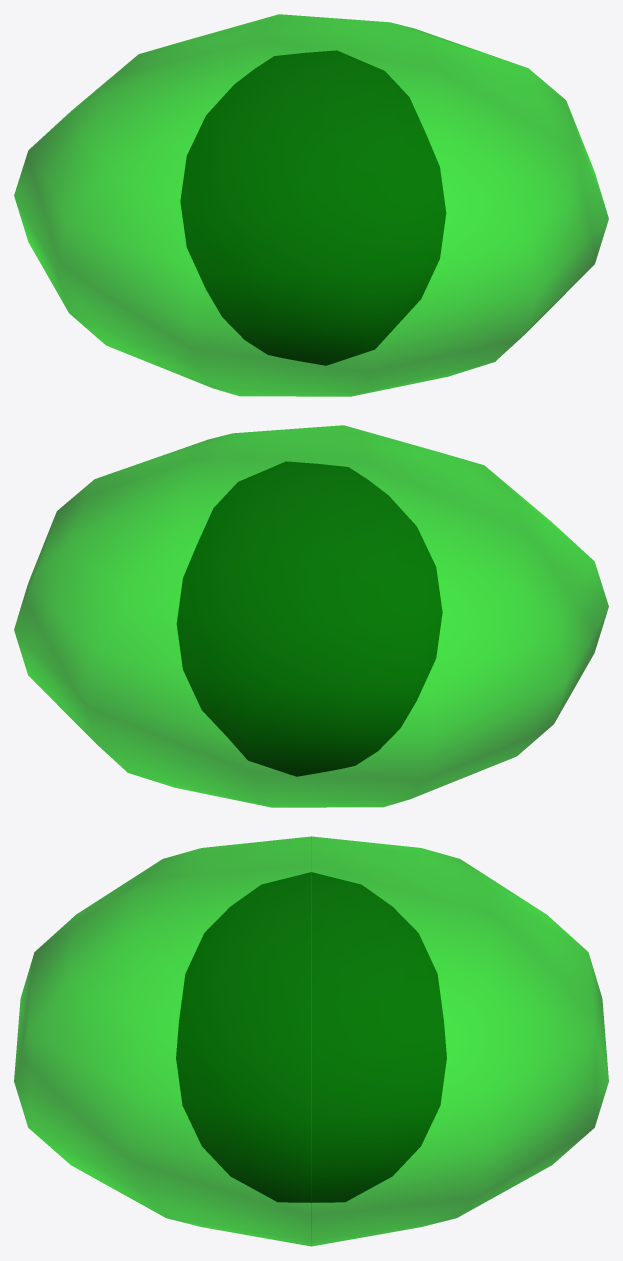
The model's file is Germ.fbx.
The picture shows the model from 3 angles, top to bottom: view 1: azimuth 30°, elevation 25°; view 2: azimuth 150°, elevation 25°; view 3: azimuth 270°, elevation 25°; orthographic projection. The views are drawn at different scales.
Parts seen in each view (by area): view 1: pSphere2, pSphere1; view 2: pSphere2, pSphere1; view 3: pSphere2, pSphere1.
Part boxes in pixels (x1,y1,x2,y2): pSphere2: [14, 14, 608, 396]; pSphere1: [180, 50, 446, 365]; pSphere2: [14, 425, 608, 807]; pSphere1: [176, 461, 442, 776]; pSphere2: [14, 836, 608, 1246]; pSphere1: [176, 872, 446, 1202].
Bounding box in the file's own units: 13.82 × 7.38 × 12.94.
